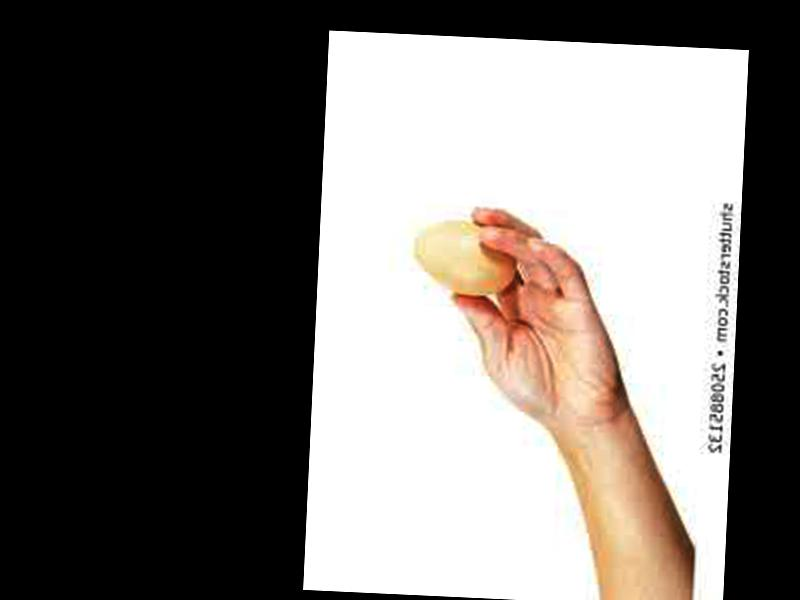Eggs: (410, 218, 521, 297)
